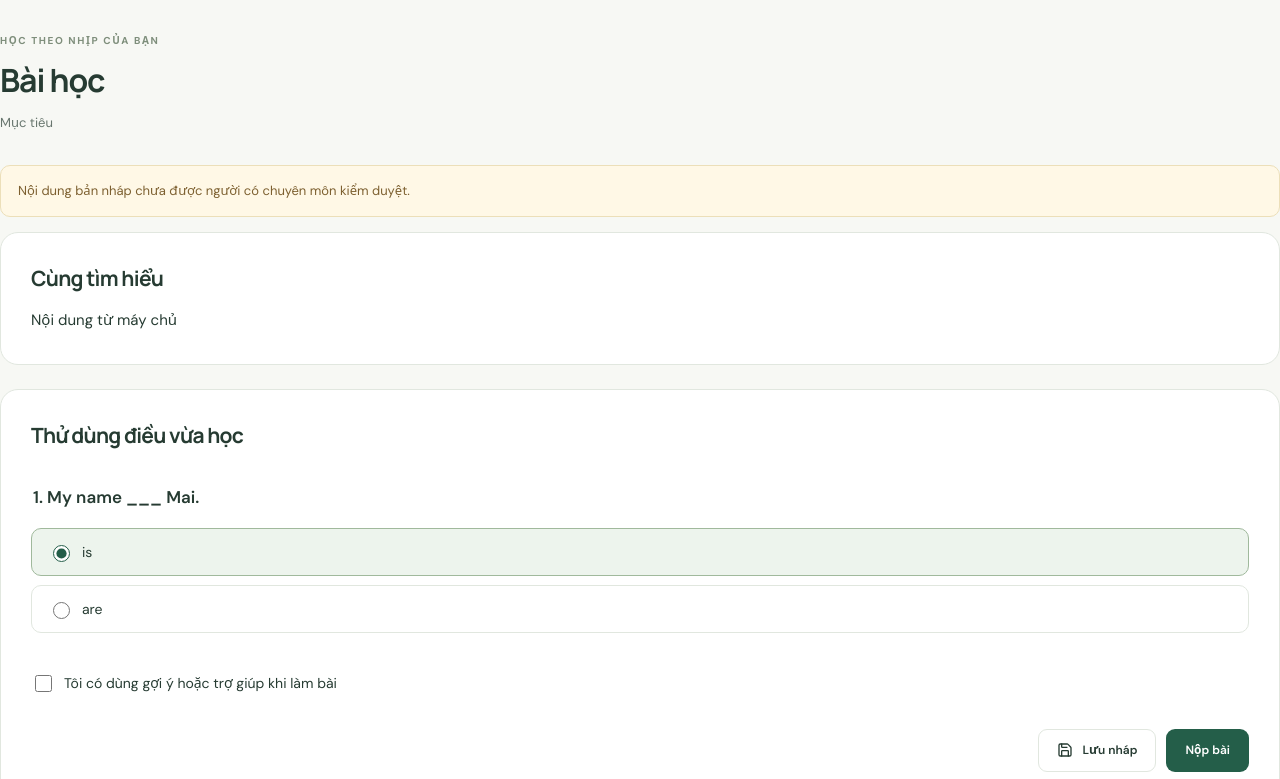
Lesson evidence › sends assisted flag and shows server feedback only after submission
The image size is (1280, 779).
Click the checkbox: (44, 684) [35,675,52,692]
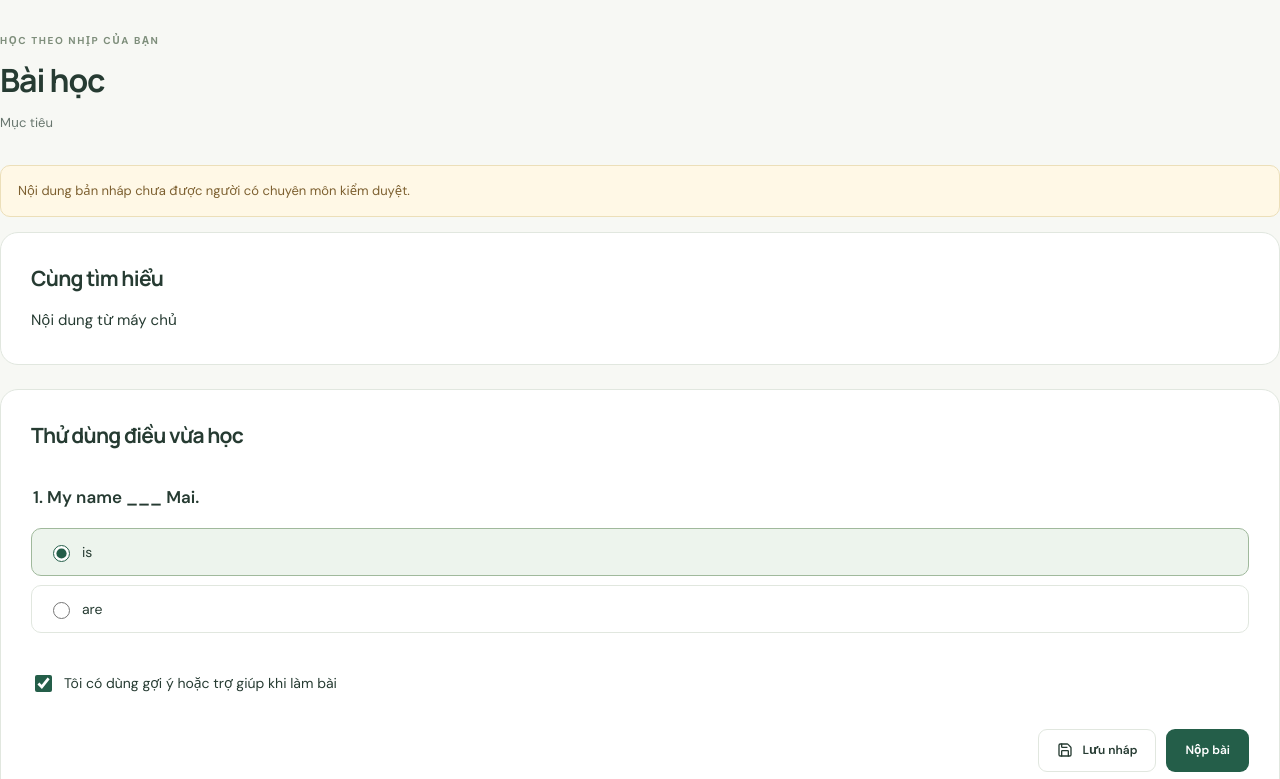
Click the button "Nộp bài": (1208, 750) [1166,729,1249,772]
(page scrolled)
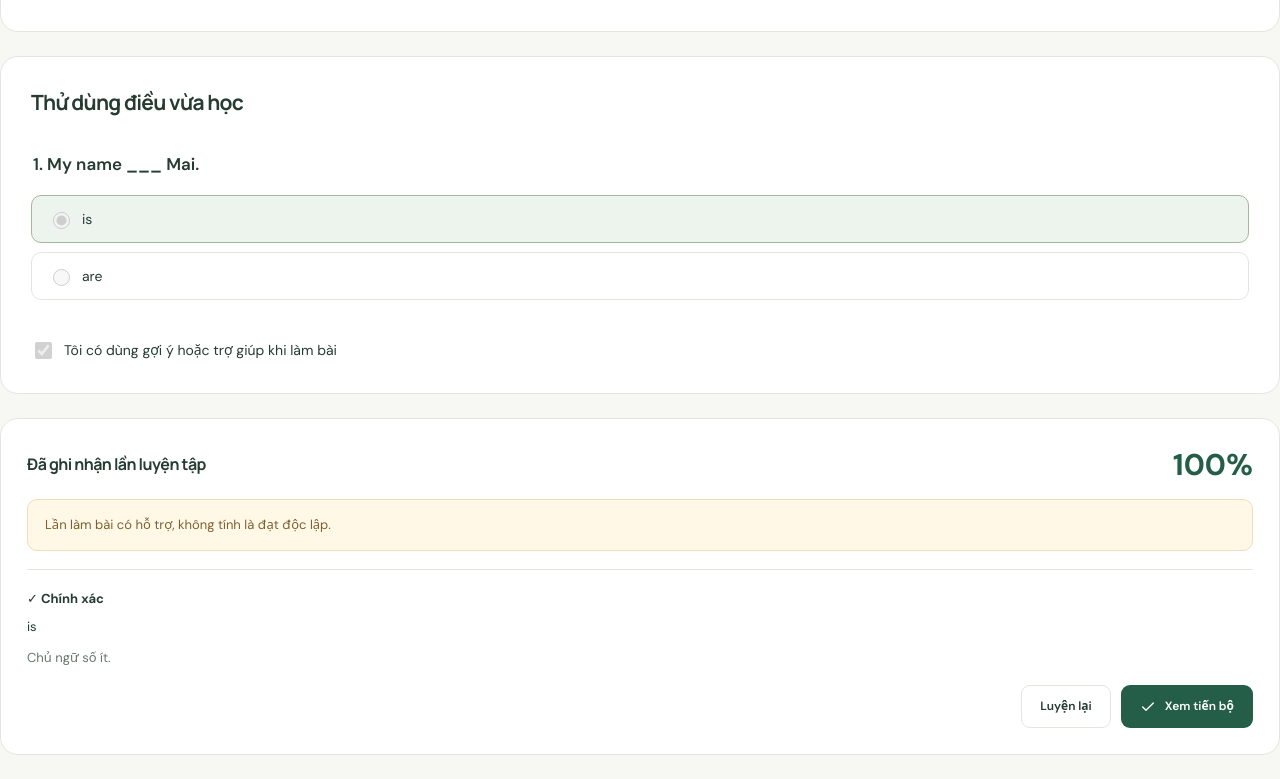
Result: the heading "Đã ghi nhận lần luyện tập" is shown at [27,452,206,476]
Result: the text "Lần làm bài có hỗ trợ, không tính là đạt độc lập." is shown at [27,499,1253,551]
